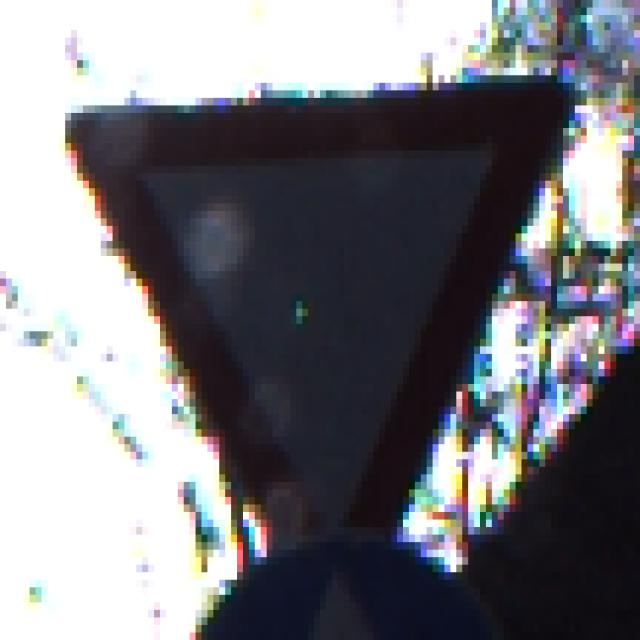Give Way: (60, 62, 588, 589)
